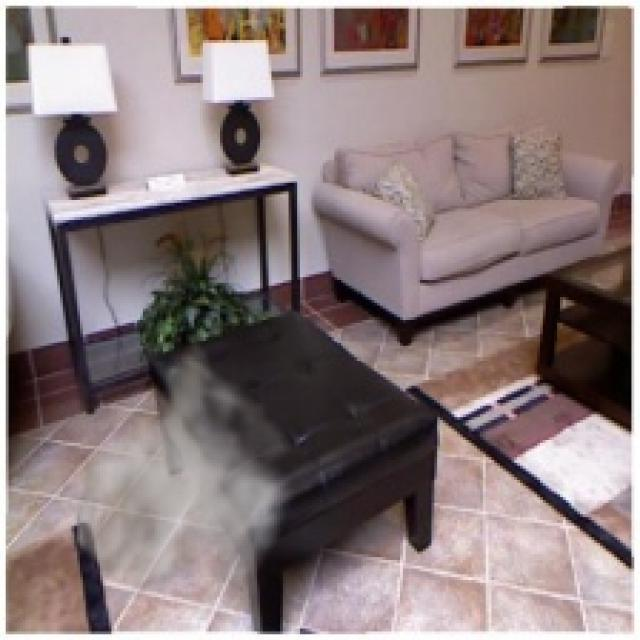Smoke: (54, 334, 297, 617)
